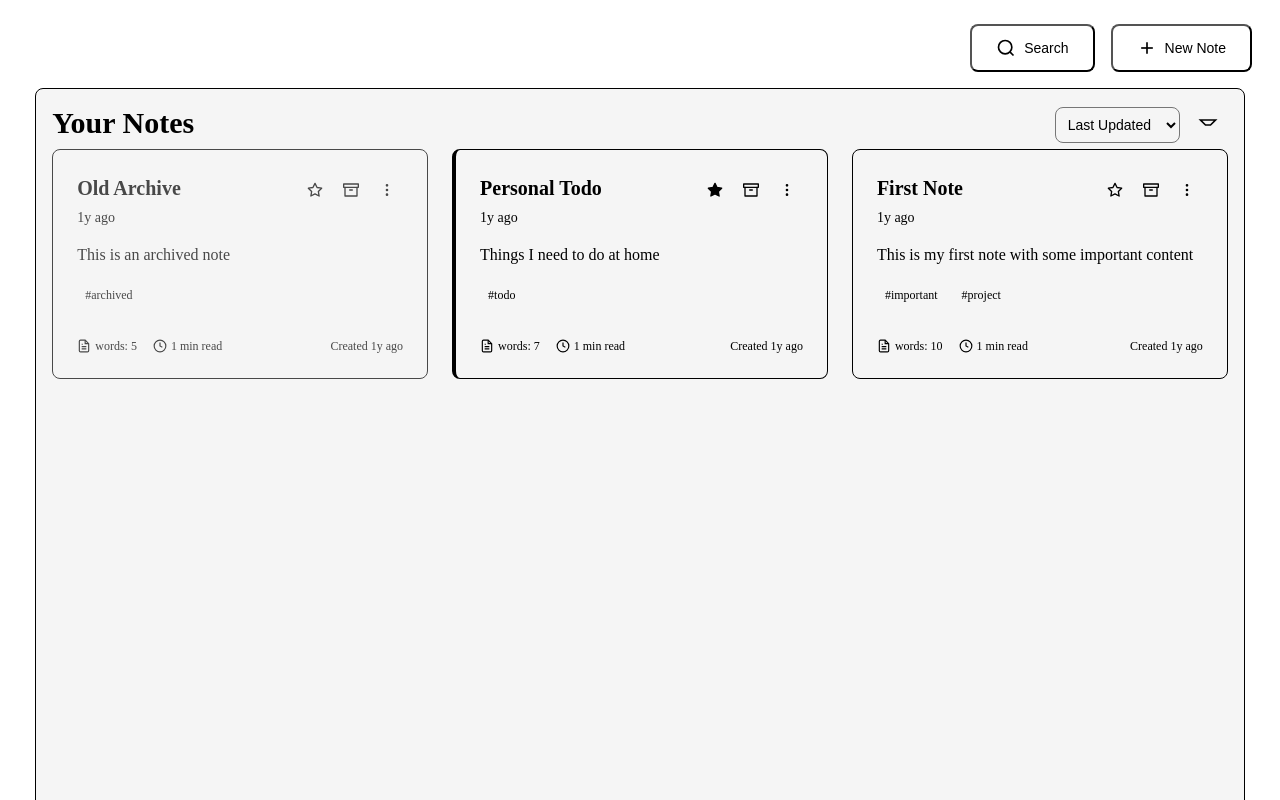
Test: Notes Interface Integration Tests › Complete Note Creation Workflow › should complete full note creation workflow
Click the button with test id "create-note-button" at coordinates (1181, 48), box [1110, 24, 1252, 72]
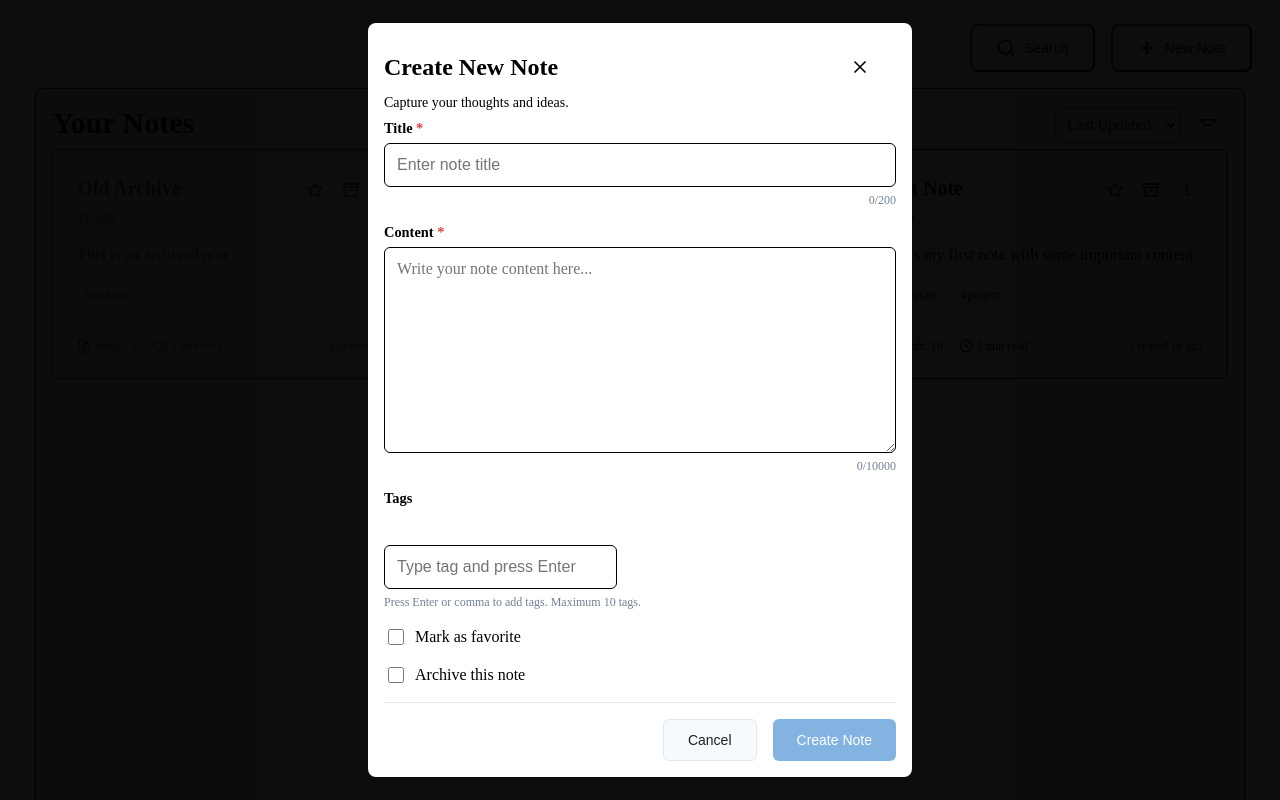
Check: the form is shown, box [384, 120, 896, 761]
